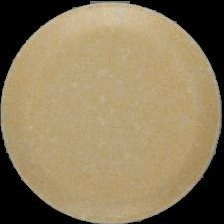68788-6364: (0, 0, 224, 224)
